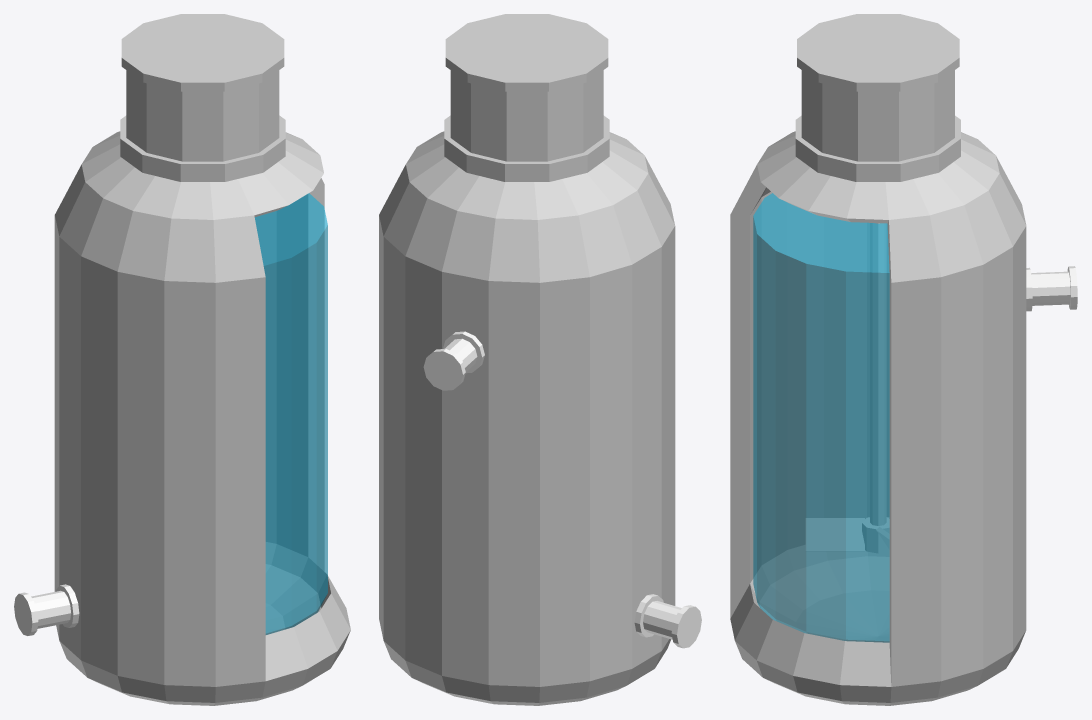
File: mixer.glb
3 renders of one model, left to right at view 1: azimuth 30°, elevation 25°; view 2: azimuth 150°, elevation 25°; view 3: azimuth 270°, elevation 25°, orthographic.
Visible parts, largest first — view 1: shell.band, liquid, shell.lower, housing, shell.upper, housing.lid, housing.collar, outlet, outlet.flange; view 2: shell.band, housing, shell.upper, housing.lid, shell.lower, housing.collar, outlet, inlet, inlet.flange, outlet.flange, inlet.base; view 3: shell.band, liquid, shell.lower, shell.upper, housing, housing.lid, shaft, housing.collar, impeller.blade.2, inlet, impeller.hub.
Part boxes in pixels (x1=…): shell.band: x1=54, y1=164, x2=324, y2=686; liquid: x1=255, y1=193, x2=327, y2=634; shell.lower: x1=59, y1=542, x2=350, y2=705; housing: x1=126, y1=70, x2=279, y2=161; shell.upper: x1=81, y1=131, x2=323, y2=219; housing.lid: x1=121, y1=14, x2=284, y2=91; housing.collar: x1=120, y1=115, x2=285, y2=181; outlet: x1=16, y1=590, x2=70, y2=630; outlet.flange: x1=14, y1=592, x2=38, y2=635; shell.band: x1=379, y1=156, x2=675, y2=686; housing: x1=450, y1=70, x2=603, y2=161; shell.upper: x1=406, y1=131, x2=648, y2=219; housing.lid: x1=445, y1=14, x2=608, y2=91; shell.lower: x1=384, y1=639, x2=670, y2=705; housing.collar: x1=444, y1=115, x2=609, y2=181; outlet: x1=643, y1=601, x2=696, y2=643; inlet: x1=428, y1=338, x2=477, y2=385; inlet.flange: x1=423, y1=348, x2=465, y2=390; outlet.flange: x1=671, y1=605, x2=701, y2=648; inlet.base: x1=443, y1=331, x2=484, y2=373; shell.band: x1=730, y1=156, x2=1026, y2=686; liquid: x1=753, y1=193, x2=889, y2=642; shell.lower: x1=730, y1=545, x2=1025, y2=705; shell.upper: x1=757, y1=131, x2=999, y2=223; housing: x1=801, y1=70, x2=954, y2=161; housing.lid: x1=797, y1=14, x2=959, y2=91; shaft: x1=870, y1=223, x2=886, y2=525; housing.collar: x1=795, y1=115, x2=960, y2=181; impeller.blade.2: x1=806, y1=518, x2=864, y2=550; inlet: x1=1031, y1=271, x2=1070, y2=305; impeller.hub: x1=862, y1=517, x2=889, y2=553.
Bounding box in the file's own units: 1.05 × 2.02 × 1.05.
